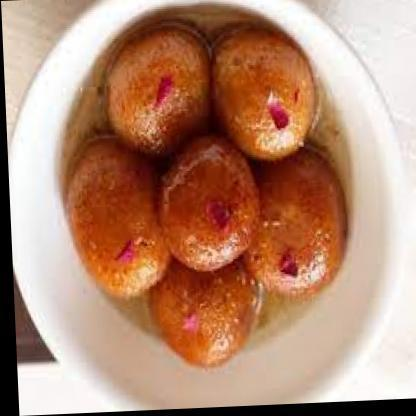gulab_jamun: (63, 138, 168, 300), (237, 149, 348, 301), (209, 23, 315, 164), (152, 135, 260, 272), (102, 24, 213, 155), (142, 253, 260, 373)
